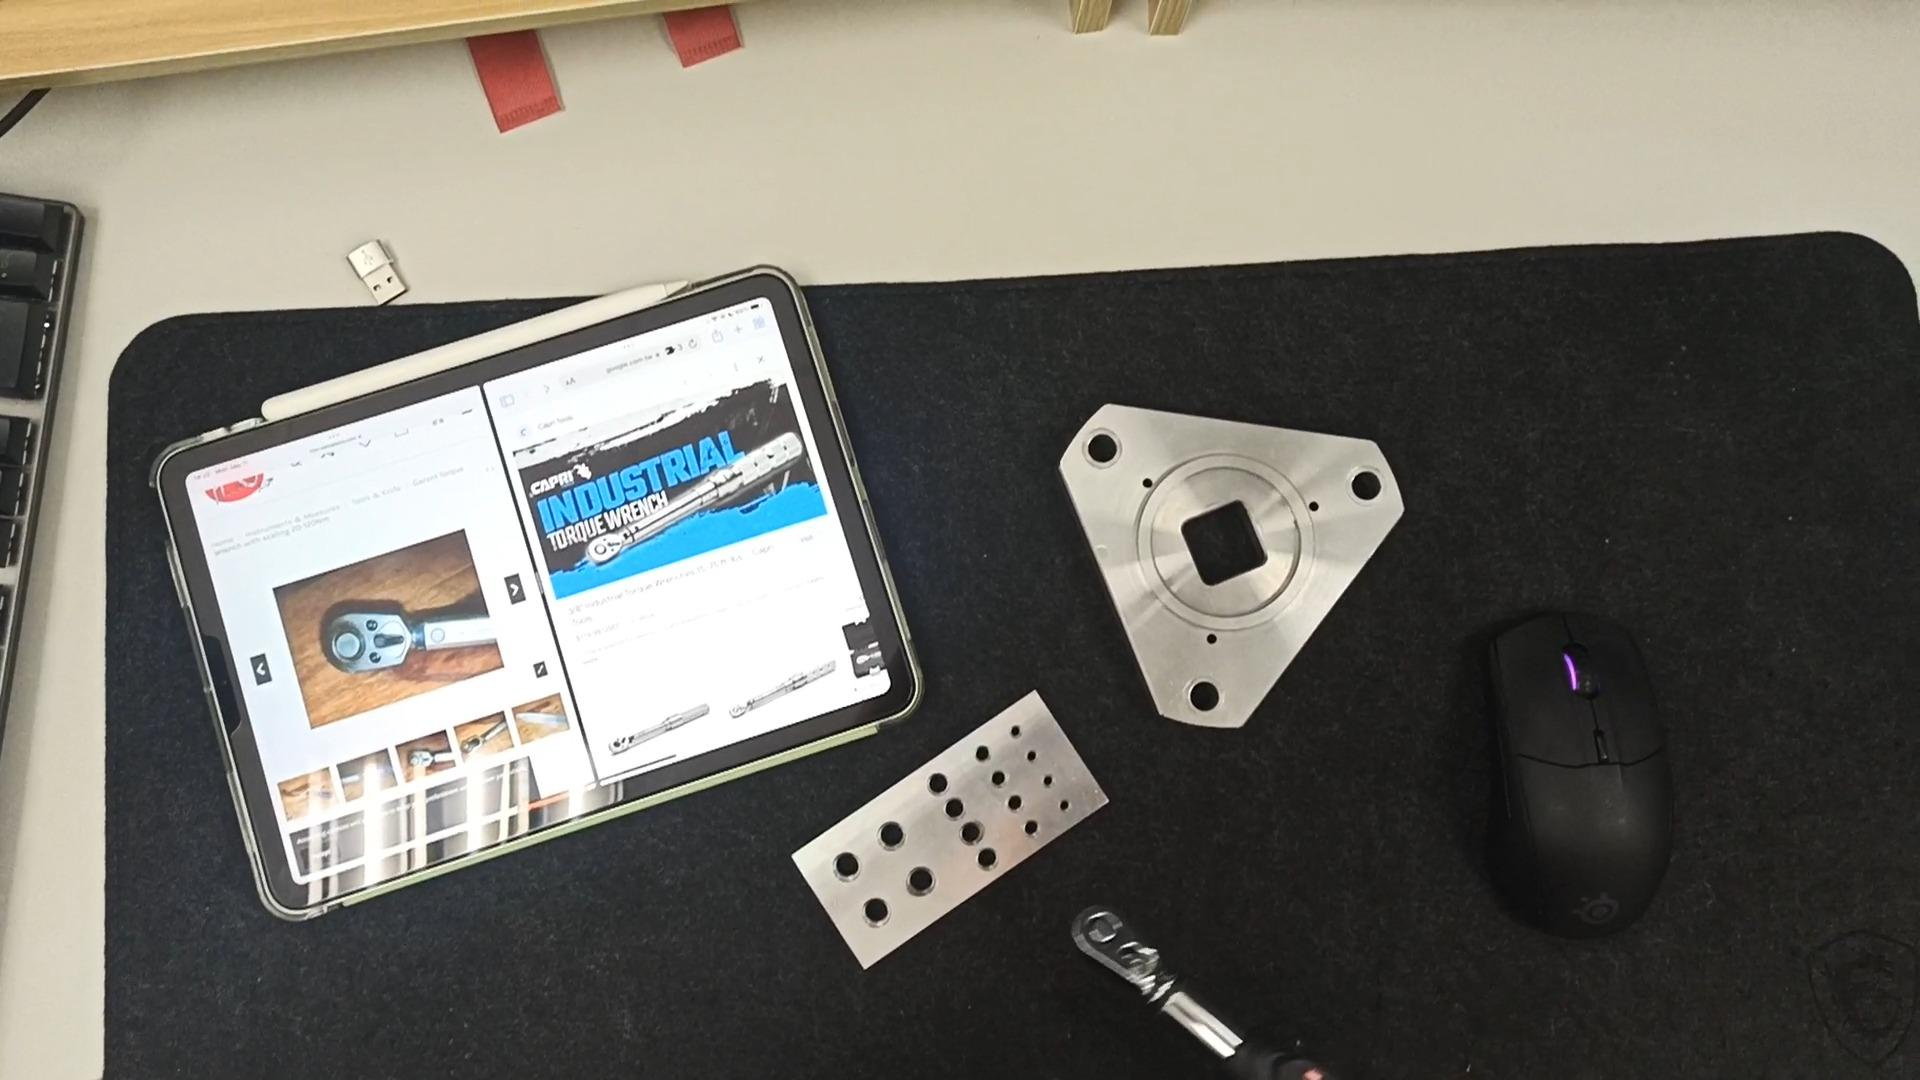Tool: (1068, 893, 1176, 997), (314, 599, 411, 679), (583, 531, 626, 566)
hole: (1167, 678, 1237, 723), (1325, 467, 1393, 512), (1071, 431, 1131, 473), (853, 895, 910, 932), (866, 820, 920, 856), (825, 851, 880, 885), (906, 866, 960, 901), (920, 774, 968, 802), (956, 829, 1000, 855), (978, 851, 1021, 876), (938, 802, 976, 825), (973, 745, 1011, 766), (1023, 820, 1058, 840), (1006, 725, 1040, 744), (1009, 799, 1040, 818), (992, 777, 1022, 795), (1025, 750, 1055, 767), (1040, 778, 1069, 795)
